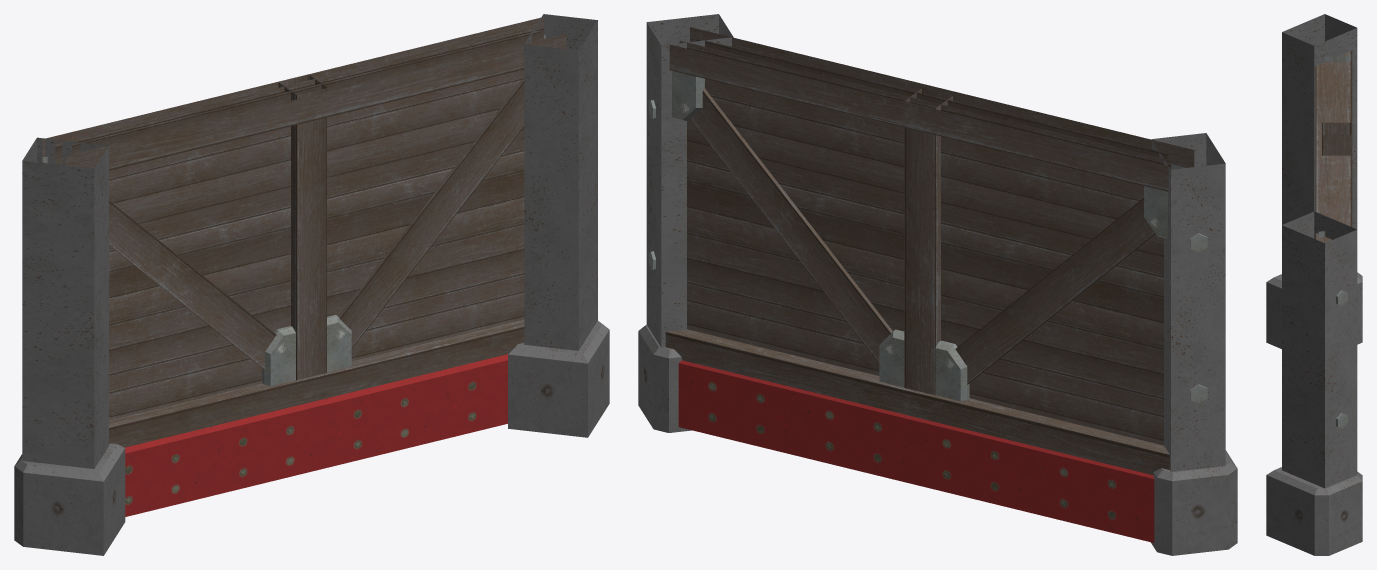
The model's file is Ob_GateSingle_RC.fbx.
3 renders of one model, left to right at view 1: azimuth 30°, elevation 25°; view 2: azimuth 150°, elevation 25°; view 3: azimuth 270°, elevation 25°, orthographic. The views are drawn at different scales.
Visible parts, largest first — view 1: Ob_GateSingle_RC; view 2: Ob_GateSingle_RC; view 3: Ob_GateSingle_RC.
Part boxes in pixels (box(x1,y1,x2,y2)): Ob_GateSingle_RC: box(14, 14, 609, 555); Ob_GateSingle_RC: box(638, 14, 1237, 555); Ob_GateSingle_RC: box(1266, 14, 1362, 555).
Size of the model in its own units: 1210 by 750 by 210.
